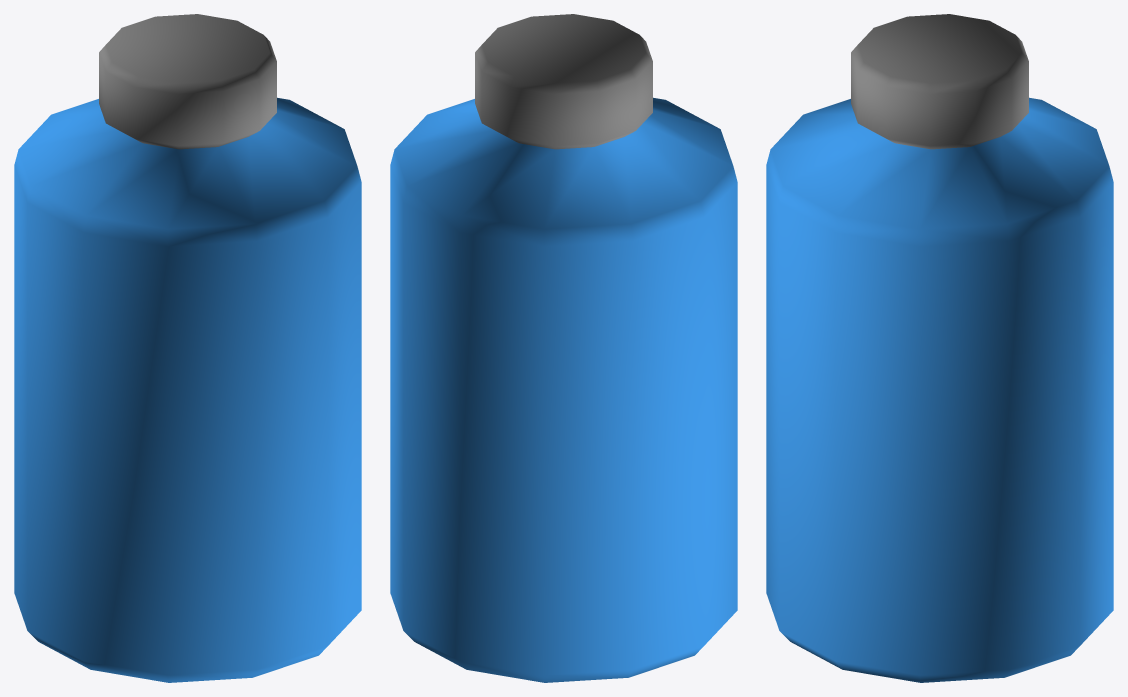
Rendered from bottle.obj.
3 renders of one model, left to right at view 1: azimuth 30°, elevation 25°; view 2: azimuth 150°, elevation 25°; view 3: azimuth 270°, elevation 25°, orthographic.
Parts seen in each view (by area): view 1: obj2, obj1; view 2: obj2, obj1; view 3: obj2, obj1.
Part boxes in pixels (x1=…): obj2: x1=14, y1=97, x2=361, y2=682; obj1: x1=99, y1=14, x2=276, y2=149; obj2: x1=390, y1=97, x2=737, y2=682; obj1: x1=475, y1=14, x2=652, y2=149; obj2: x1=766, y1=97, x2=1113, y2=682; obj1: x1=851, y1=14, x2=1028, y2=149.
Bounding box in the file's own units: 0.8841 × 1.59 × 0.8841.
